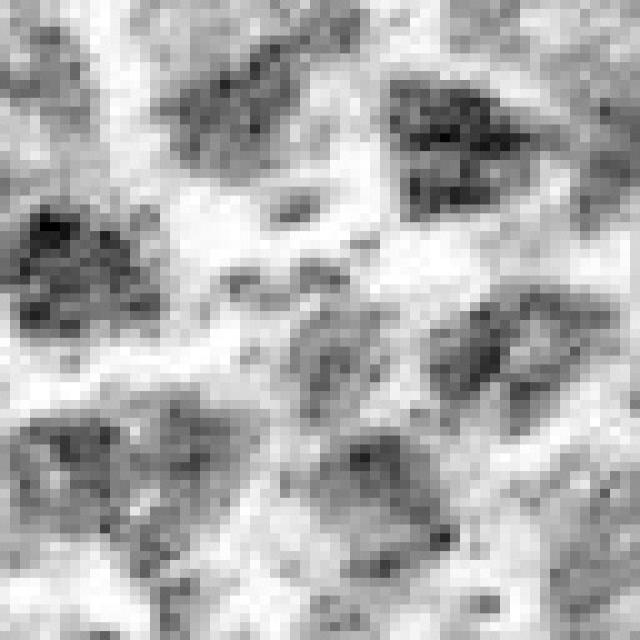inner: (202, 188, 421, 444)
lobe: (0, 384, 274, 593), (417, 271, 634, 438), (375, 65, 589, 231), (281, 426, 466, 581), (0, 191, 181, 345), (148, 39, 331, 182)
outer: (0, 0, 640, 640)
